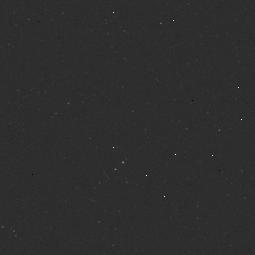proba_3_ocs: (77, 156, 136, 218)
